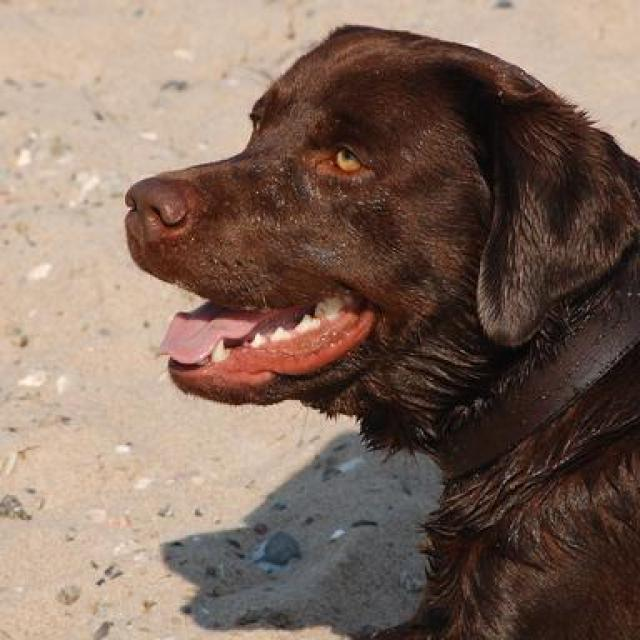happy: (87, 21, 640, 460)
